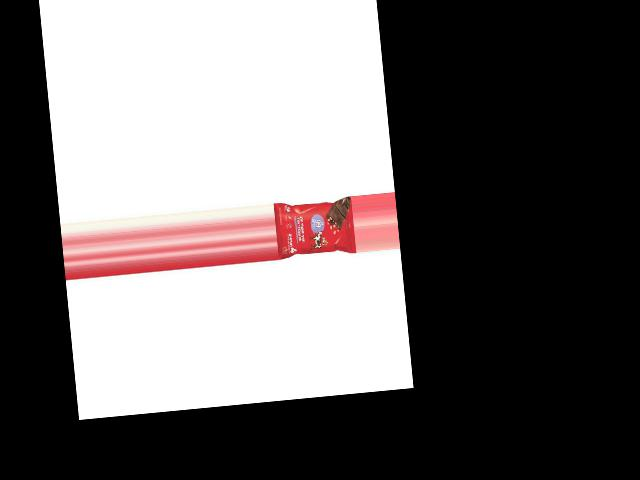chocolate: (272, 195, 356, 258)
